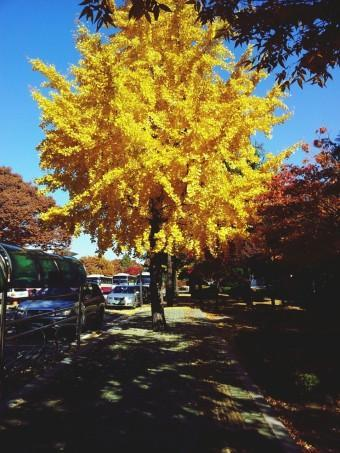tree: (24, 1, 300, 319)
